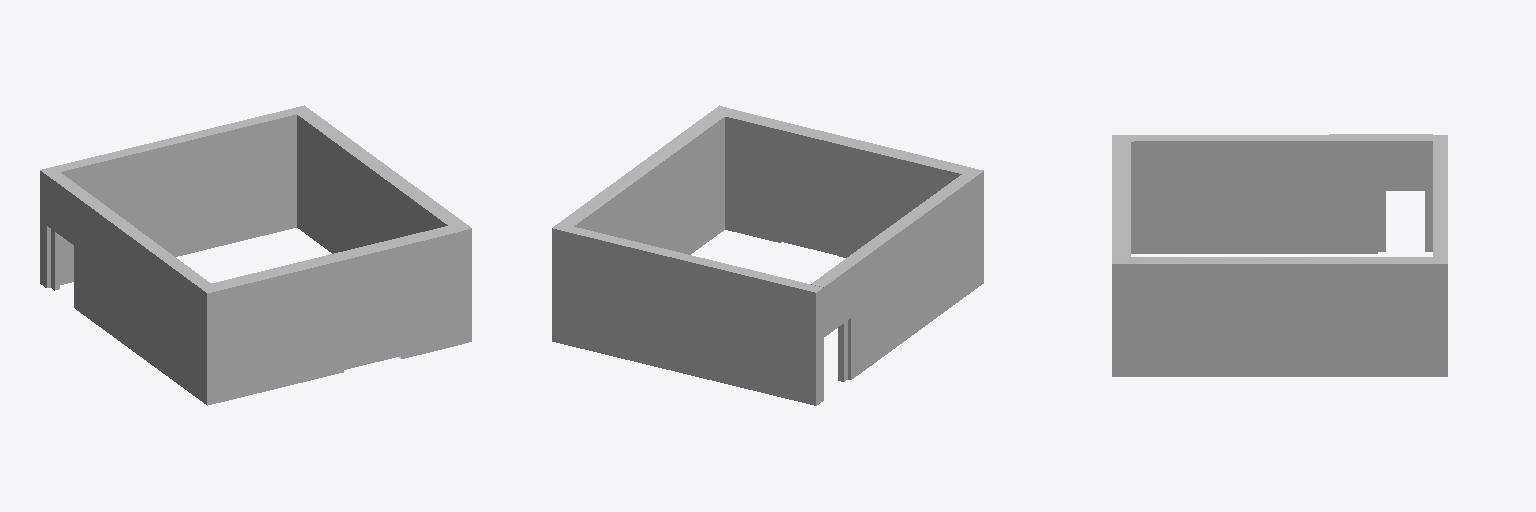
File: sala uno (1).obj
3 views of the same model, side by side, from view 1: azimuth 30°, elevation 25°; view 2: azimuth 150°, elevation 25°; view 3: azimuth 270°, elevation 25° (orthographic).
Visible parts, largest first — view 1: sala uno (1); view 2: sala uno (1); view 3: sala uno (1).
Boxes of the visible parts, <box> form: sala uno (1): <box>40,105,471,405</box>; sala uno (1): <box>552,105,983,405</box>; sala uno (1): <box>1112,134,1447,376</box>.
Size of the model in its own units: 150 by 61.8 by 165.